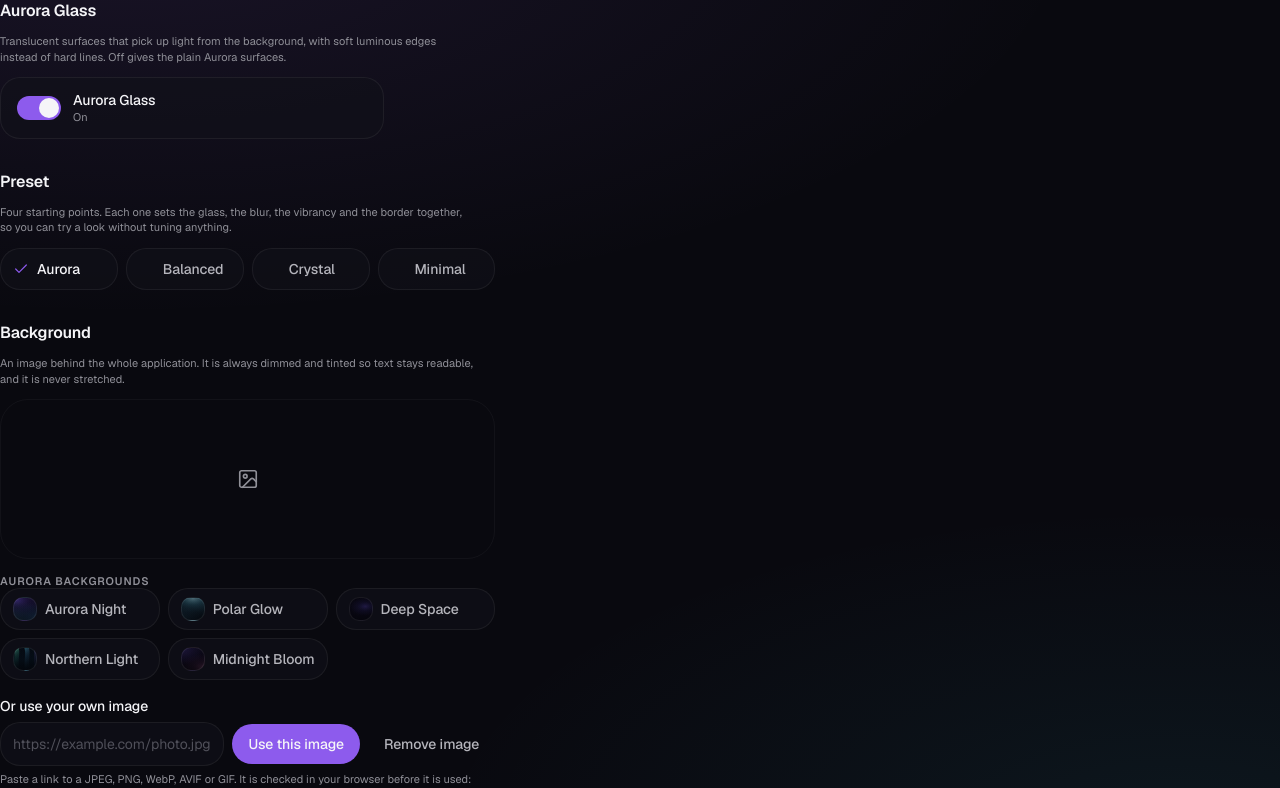
the background URL field › refuses an insecure address without asking the network
Type "http://img.test/photo.jpg" into the field with test id "background-url" at point(112, 744), box x1=0 y1=722 x2=224 y2=766
Then press Enter
(page scrolled)
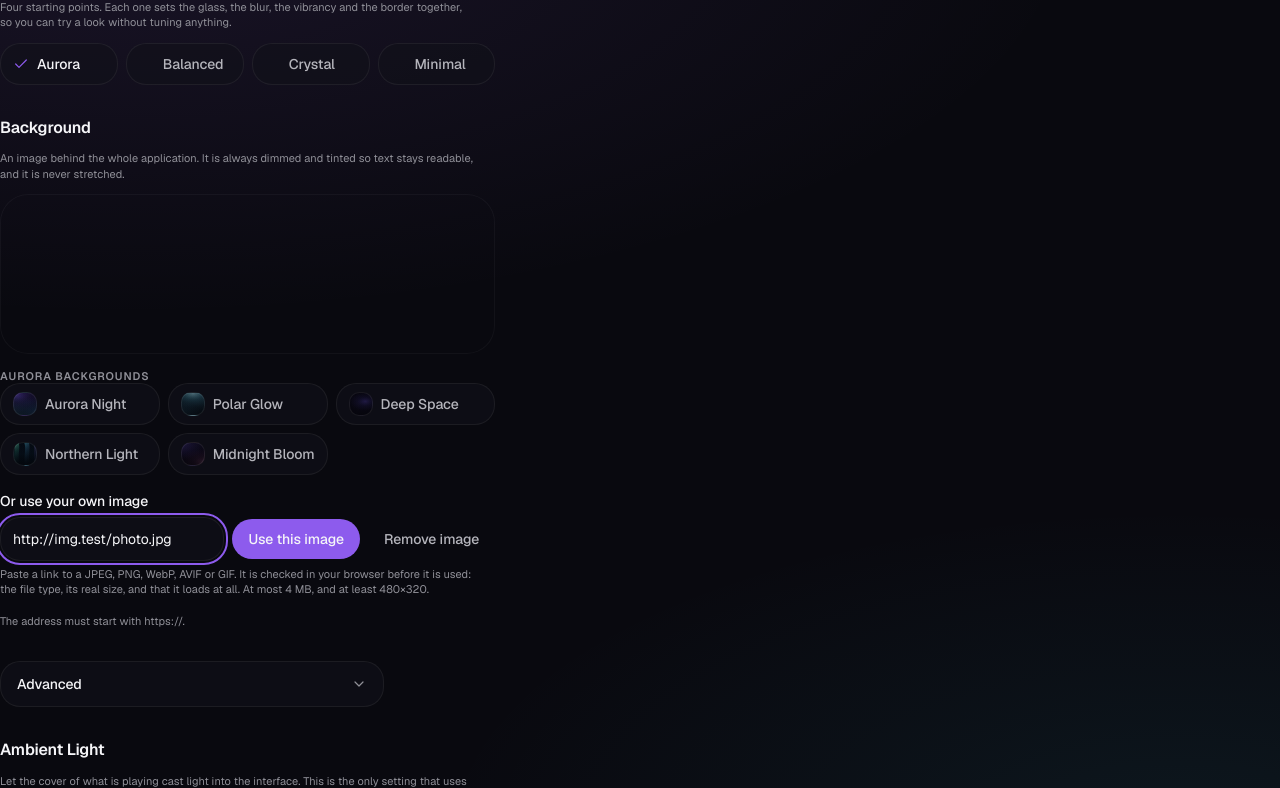
Result: the message with test id "background-error" shows "https://" at x1=0 y1=614 x2=185 y2=628
